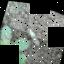Purslane: (0, 22, 63, 64)
